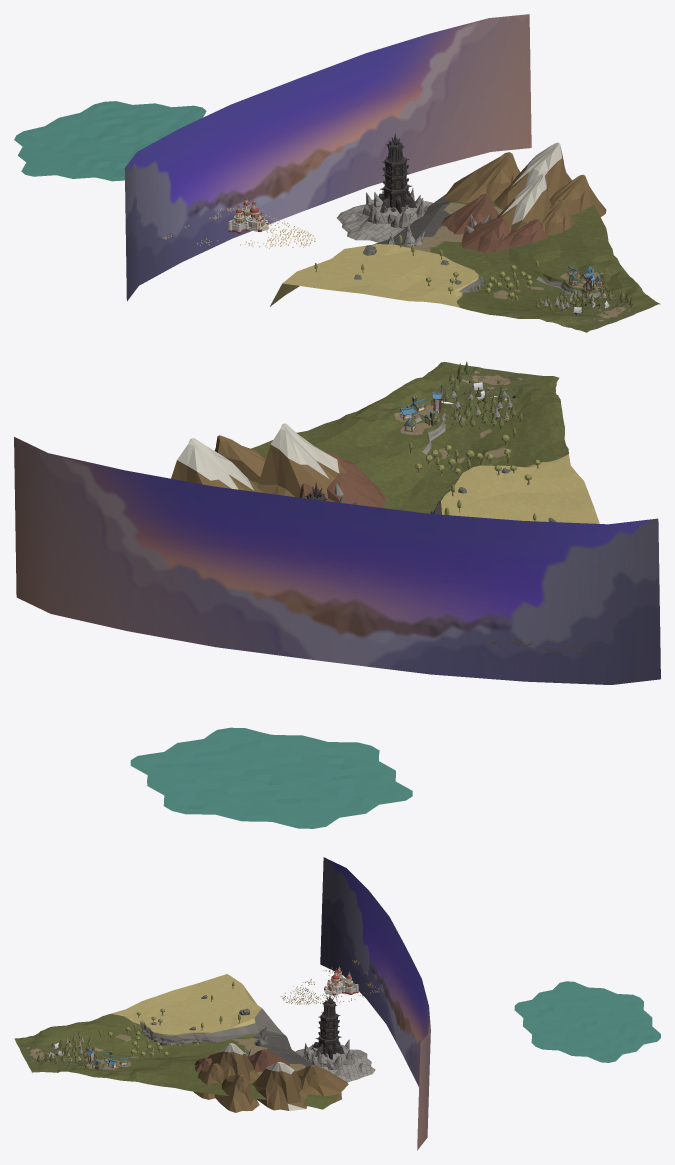
The model's file is titleDio.fbx.
3 renders of one model, top to bottom at view 1: azimuth 30°, elevation 25°; view 2: azimuth 150°, elevation 25°; view 3: azimuth 270°, elevation 25°, orthographic. The views are drawn at different scales.
Visible parts, largest first — view 1: titleDioBG, titleDioGroundFar, titleDioMountainsBG, titleDioWater, titleDioHarazuel, titleDioGroundNear, titleDioPlainsPropsBG, titleDioParid, titleDioPropsMid, titleDioPlainsGrass; view 2: titleDioBG, titleDioGroundFar, titleDioWater, titleDioMountainsBG, titleDioGroundNear, titleDioPlainsPropsBG, titleDioPropsMid, titleDioTown; view 3: titleDioGroundFar, titleDioBG, titleDioWater, titleDioMountainsBG, titleDioHarazuel, titleDioPlainsPropsBG, titleDioGroundNear, titleDioParid, titleDioPropsMid, titleDioPlainsGrass.
Part boxes in pixels (x1,y1,x2,y2): titleDioBG: [124, 14, 531, 301]; titleDioGroundFar: [270, 194, 660, 332]; titleDioMountainsBG: [441, 142, 606, 252]; titleDioWater: [14, 101, 206, 181]; titleDioHarazuel: [337, 133, 489, 246]; titleDioGroundNear: [574, 293, 642, 328]; titleDioPlainsPropsBG: [314, 234, 538, 304]; titleDioParid: [228, 198, 269, 233]; titleDioPropsMid: [535, 286, 624, 311]; titleDioPlainsGrass: [162, 208, 315, 248]; titleDioBG: [14, 437, 660, 684]; titleDioGroundFar: [250, 362, 599, 523]; titleDioWater: [130, 727, 412, 828]; titleDioMountainsBG: [171, 423, 386, 507]; titleDioGroundNear: [435, 366, 542, 405]; titleDioPlainsPropsBG: [409, 428, 556, 522]; titleDioPropsMid: [430, 371, 522, 428]; titleDioTown: [399, 395, 439, 432]; titleDioGroundFar: [14, 974, 338, 1109]; titleDioBG: [320, 857, 430, 1150]; titleDioWater: [514, 981, 660, 1062]; titleDioMountainsBG: [193, 1043, 348, 1112]; titleDioHarazuel: [244, 994, 375, 1082]; titleDioPlainsPropsBG: [99, 981, 249, 1058]; titleDioGroundNear: [16, 1038, 77, 1067]; titleDioParid: [324, 965, 358, 995]; titleDioPropsMid: [54, 1031, 98, 1068]; titleDioPlainsGrass: [280, 960, 381, 1004].
Size of the model in its own units: 195 by 54.52 by 290.
15 materials, 14 textured.
